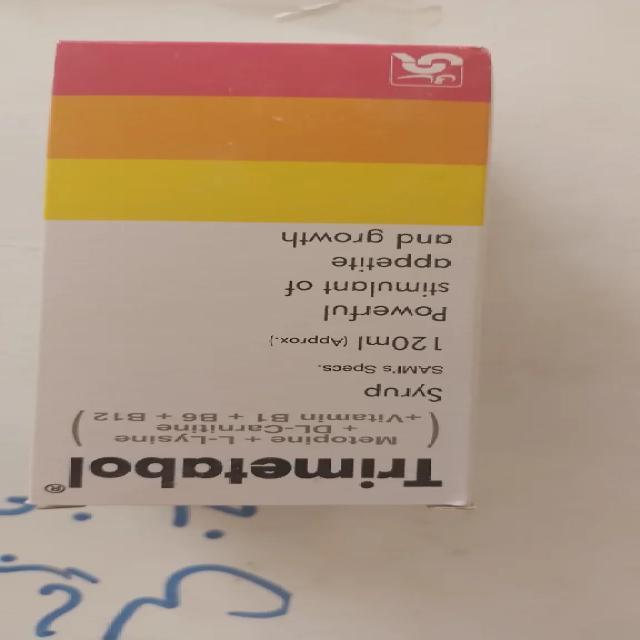drug-name: (64, 454, 443, 496)
